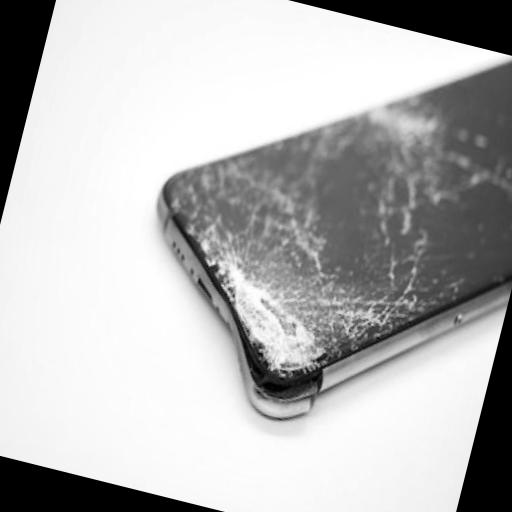phone: (153, 62, 512, 423)
